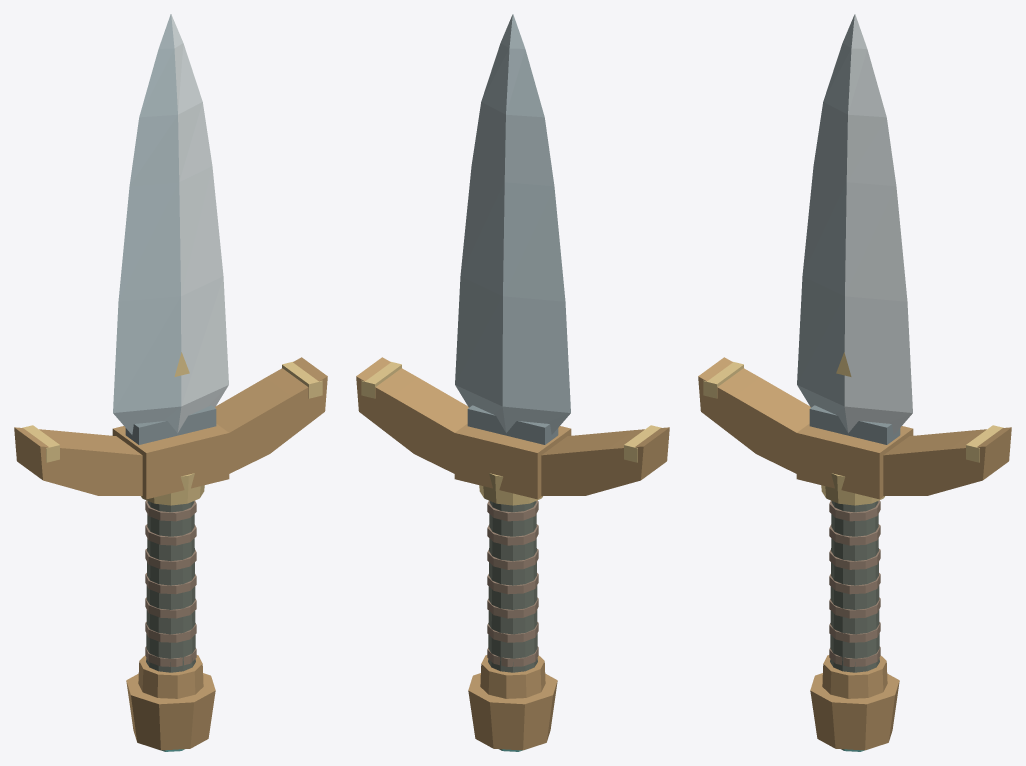
Rendered from plains-sword-v0.1.glb.
The picture shows the model from 3 angles, left to right: view 1: azimuth 30°, elevation 25°; view 2: azimuth 150°, elevation 25°; view 3: azimuth 330°, elevation 25°; orthographic projection.
Visible parts, largest first — view 1: Double edged forged blade, Bright bevel and central ridge, Right upward guard, Left upward guard, Grip leather, Bronze guard hub, Octagonal bronze pommel, Pommel neck, Strong ricasso, Gold grip collar, Right guard gold stud, Leather ring 6 (+1 smaller); view 2: Double edged forged blade, Right upward guard, Left upward guard, Grip leather, Bronze guard hub, Octagonal bronze pommel, Pommel neck, Strong ricasso, Gold grip collar, Right guard gold stud, Leather ring 6, Leather ring 5; view 3: Bright bevel and central ridge, Double edged forged blade, Left upward guard, Right upward guard, Grip leather, Bronze guard hub, Octagonal bronze pommel, Pommel neck, Strong ricasso, Gold grip collar, Left guard gold stud, Leather ring 6 (+1 smaller).
Part boxes in pixels (bbox=[...]): Double edged forged blade: bbox=[113, 14, 181, 434]; Bright bevel and central ridge: bbox=[171, 15, 228, 432]; Right upward guard: bbox=[215, 357, 327, 473]; Left upward guard: bbox=[14, 427, 142, 495]; Grip leather: bbox=[146, 501, 195, 672]; Bronze guard hub: bbox=[112, 424, 229, 499]; Octagonal bronze pommel: bbox=[126, 673, 215, 750]; Pommel neck: bbox=[138, 655, 203, 698]; Strong ricasso: bbox=[125, 405, 216, 444]; Gold grip collar: bbox=[141, 473, 204, 505]; Right guard gold stud: bbox=[282, 362, 322, 398]; Leather ring 6: bbox=[145, 500, 196, 521]; Double edged forged blade: bbox=[455, 14, 570, 434]; Right upward guard: bbox=[356, 357, 468, 473]; Left upward guard: bbox=[541, 427, 669, 495]; Grip leather: bbox=[488, 501, 537, 672]; Bronze guard hub: bbox=[454, 424, 571, 499]; Octagonal bronze pommel: bbox=[468, 673, 557, 750]; Pommel neck: bbox=[480, 655, 545, 698]; Strong ricasso: bbox=[467, 405, 558, 444]; Gold grip collar: bbox=[479, 473, 542, 505]; Right guard gold stud: bbox=[361, 362, 401, 398]; Leather ring 6: bbox=[487, 500, 538, 521]; Leather ring 5: bbox=[487, 524, 538, 545]; Bright bevel and central ridge: bbox=[844, 14, 912, 434]; Double edged forged blade: bbox=[797, 14, 854, 432]; Left upward guard: bbox=[698, 357, 810, 473]; Right upward guard: bbox=[883, 427, 1011, 495]; Grip leather: bbox=[830, 501, 879, 672]; Bronze guard hub: bbox=[796, 424, 913, 499]; Octagonal bronze pommel: bbox=[810, 673, 899, 750]; Pommel neck: bbox=[822, 655, 887, 698]; Strong ricasso: bbox=[809, 405, 900, 444]; Gold grip collar: bbox=[821, 473, 884, 505]; Left guard gold stud: bbox=[703, 362, 743, 398]; Leather ring 6: bbox=[829, 500, 880, 521].
Size of the model in its own units: 1.04 by 2.52 by 0.29.
